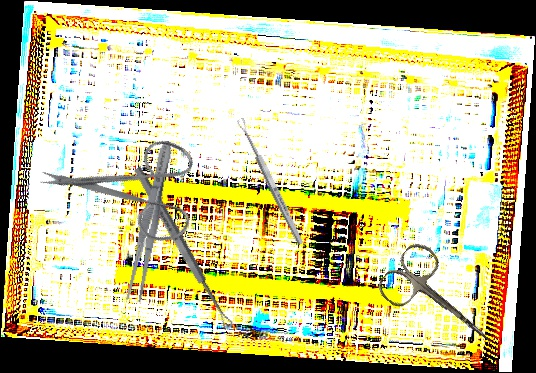Dressing Forceps: (123, 138, 178, 305)
Iris Scissors: (34, 100, 224, 285), (373, 237, 512, 369)
Surgical Spoon: (131, 165, 235, 331), (235, 117, 306, 246)
